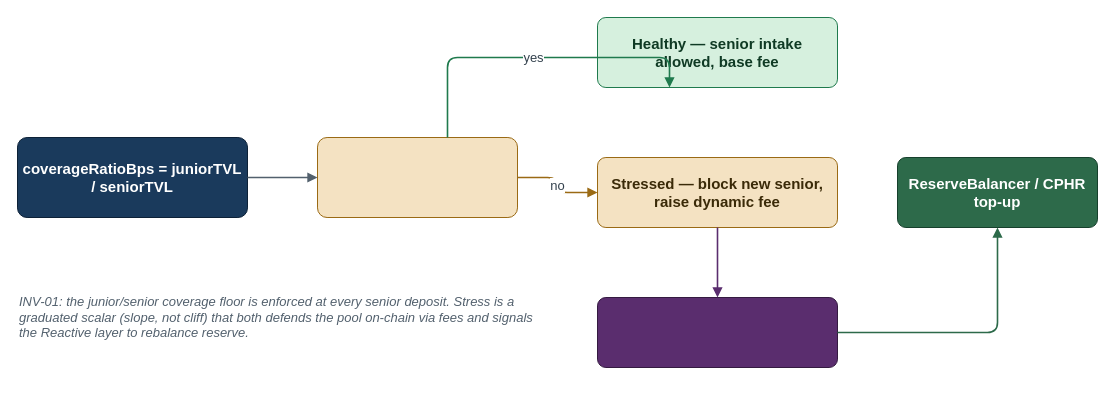
Image size: 1115x395. Some labels were removed from this diagram. The shapes that lost their labels are listed below. From the top down, each one's box as (x1, y1, x2, y2) in pixels, then its label:
(316, 136, 518, 218): ratio ≥ floor (minCoverageRatioBps) ?
(596, 296, 838, 368): CoverageStress event → Reactive CoverageMonitor
